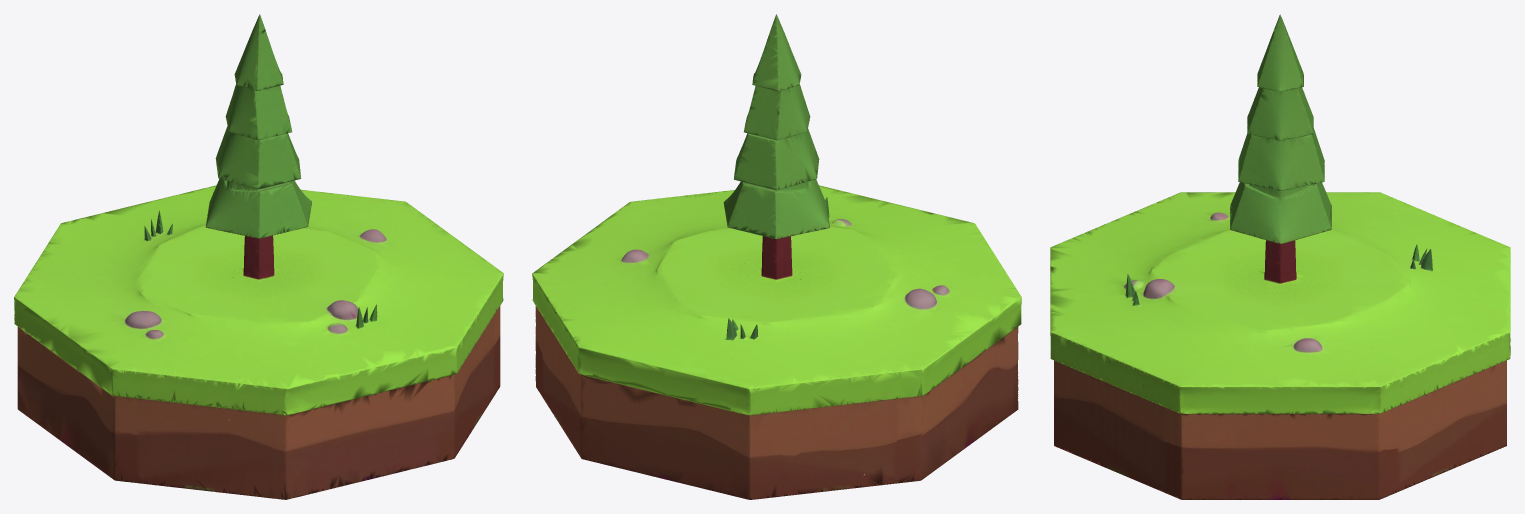
File: foresttile_lv1.glb
3 views of the same model, side by side, from view 1: azimuth 30°, elevation 25°; view 2: azimuth 150°, elevation 25°; view 3: azimuth 270°, elevation 25° (orthographic).
Bounding box in the file's own units: 1.9 × 1.78 × 1.9.
1 material, 1 textured.
